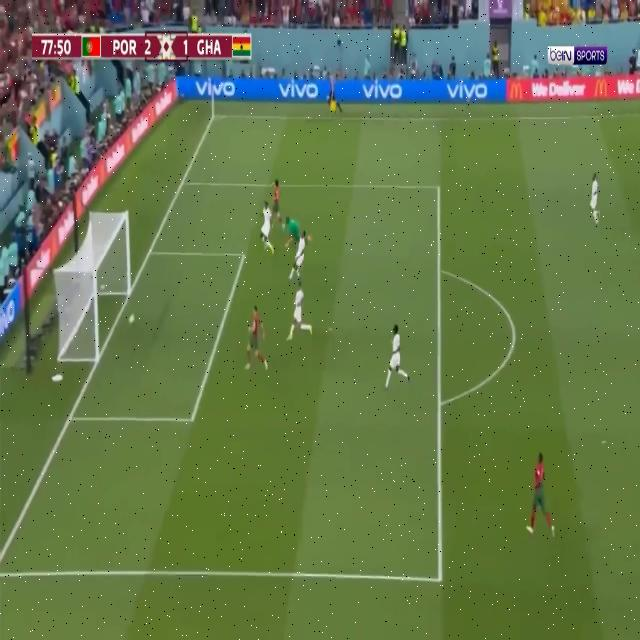Ball: (128, 310, 137, 330)
GoalKeeper: (286, 209, 312, 249)
Referee: (326, 65, 345, 123)
TEAM 1: (527, 446, 555, 546), (242, 304, 271, 376), (270, 166, 284, 235)
TEAM 2: (382, 322, 412, 393), (283, 282, 316, 342), (288, 230, 308, 279), (589, 169, 603, 230), (261, 201, 277, 250)
